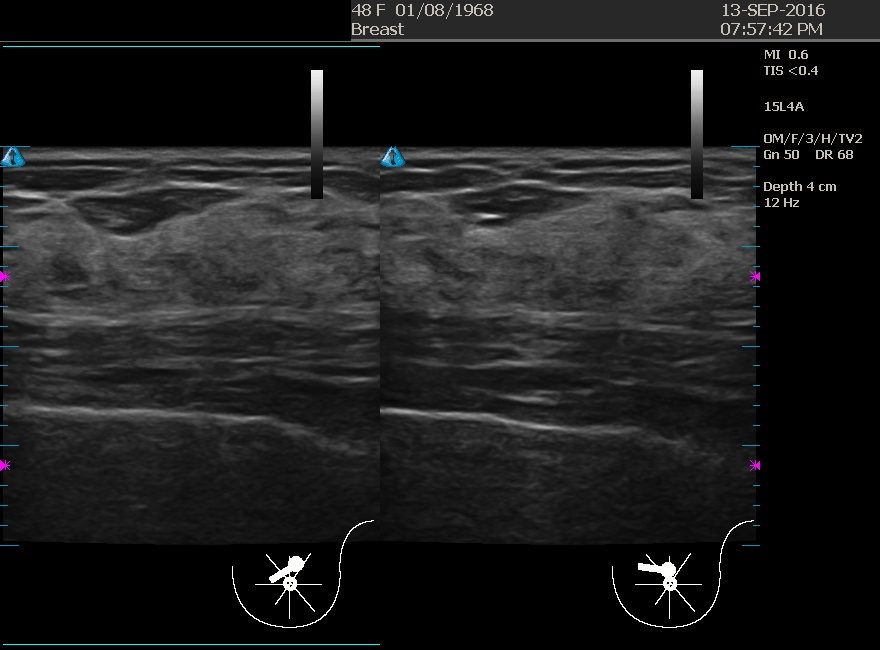BIRADS_3: (397, 171, 598, 371), (52, 150, 252, 350)
